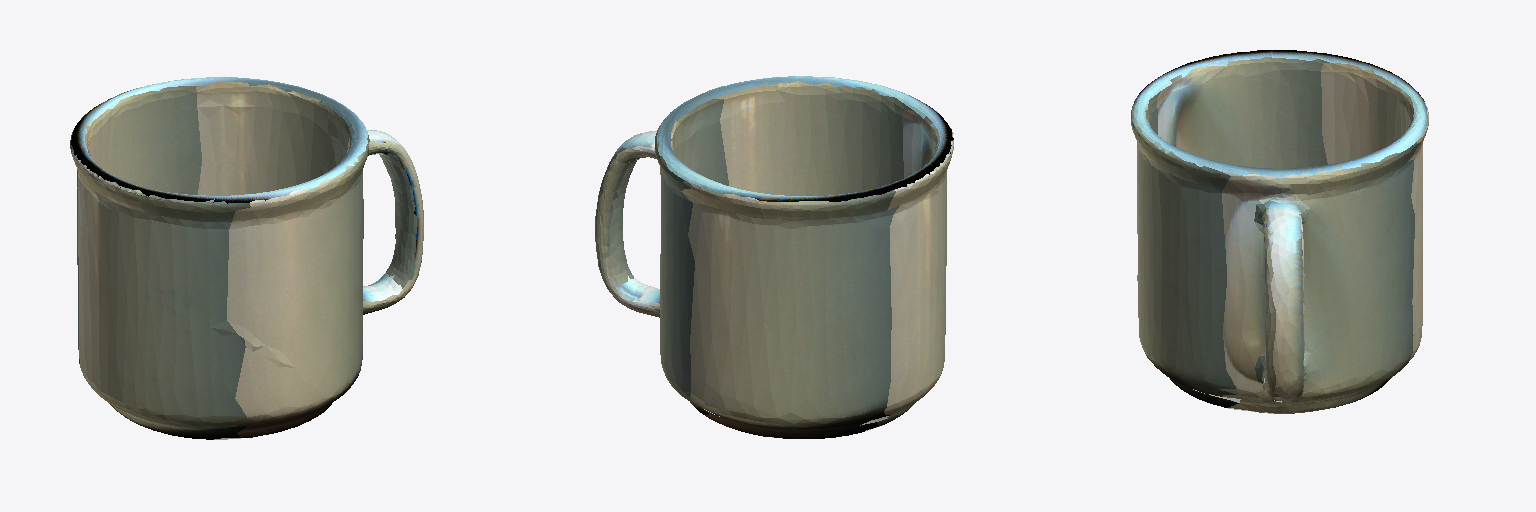
The picture shows the model from 3 angles: view 1: azimuth 30°, elevation 25°; view 2: azimuth 150°, elevation 25°; view 3: azimuth 270°, elevation 25°; orthographic projection.
Visible parts, largest first — view 1: WhiteCup_5k_tex:Mesh; view 2: WhiteCup_5k_tex:Mesh; view 3: WhiteCup_5k_tex:Mesh.
Part boxes in pixels (x1,y1,x2,y2): WhiteCup_5k_tex:Mesh: (70, 77, 423, 439); WhiteCup_5k_tex:Mesh: (595, 76, 953, 438); WhiteCup_5k_tex:Mesh: (1131, 50, 1428, 413).
Size of the model in its own units: 110 by 81.33 by 85.37.
1 materials, 1 textured.